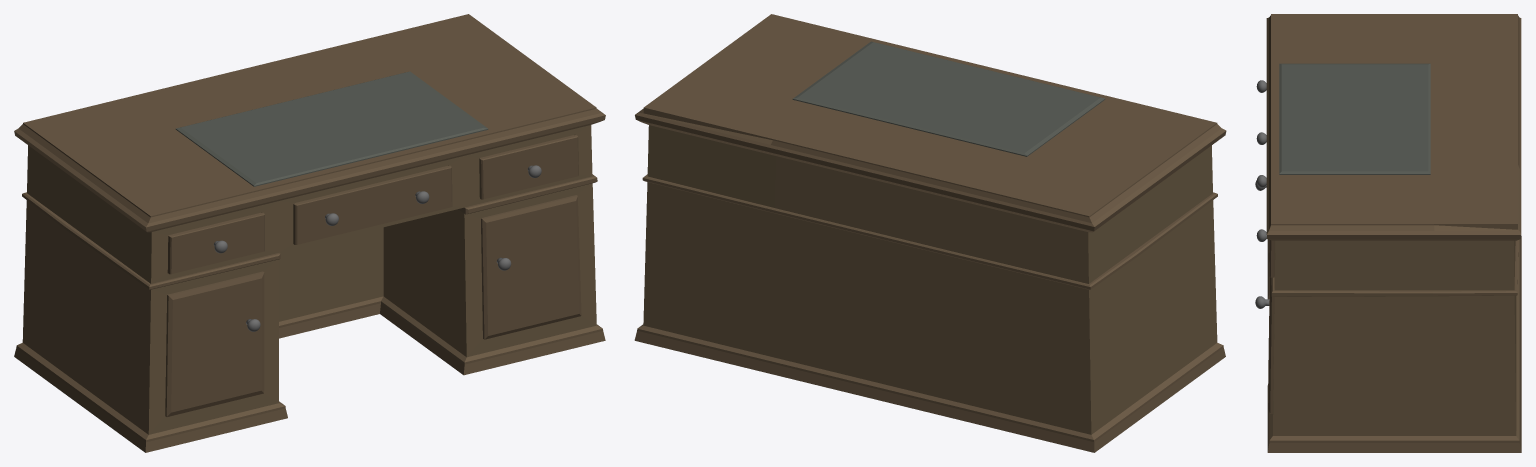
File: Writing Desk.fbx
3 views of the same model, side by side, from view 1: azimuth 30°, elevation 25°; view 2: azimuth 150°, elevation 25°; view 3: azimuth 270°, elevation 25° (orthographic). The views are drawn at different scales.
Parts seen in each view (by area): view 1: SkrivBord, Låda2, Låda3, Låda1; view 2: SkrivBord; view 3: SkrivBord, Låda3.
Boxes of the visible parts, box(x1,y1,x2,y2) form: SkrivBord: box(14, 14, 605, 452); Låda2: box(293, 165, 452, 244); Låda3: box(479, 135, 578, 199); Låda1: box(167, 212, 264, 274); SkrivBord: box(634, 14, 1226, 452); SkrivBord: box(1255, 14, 1521, 452); Låda3: box(1256, 229, 1275, 277).
Size of the model in its own units: 179 by 87.84 by 93.11.
